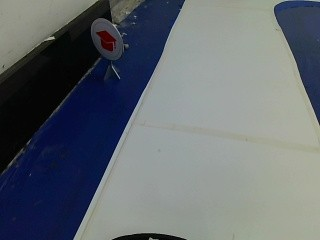school: (89, 17, 124, 59)
